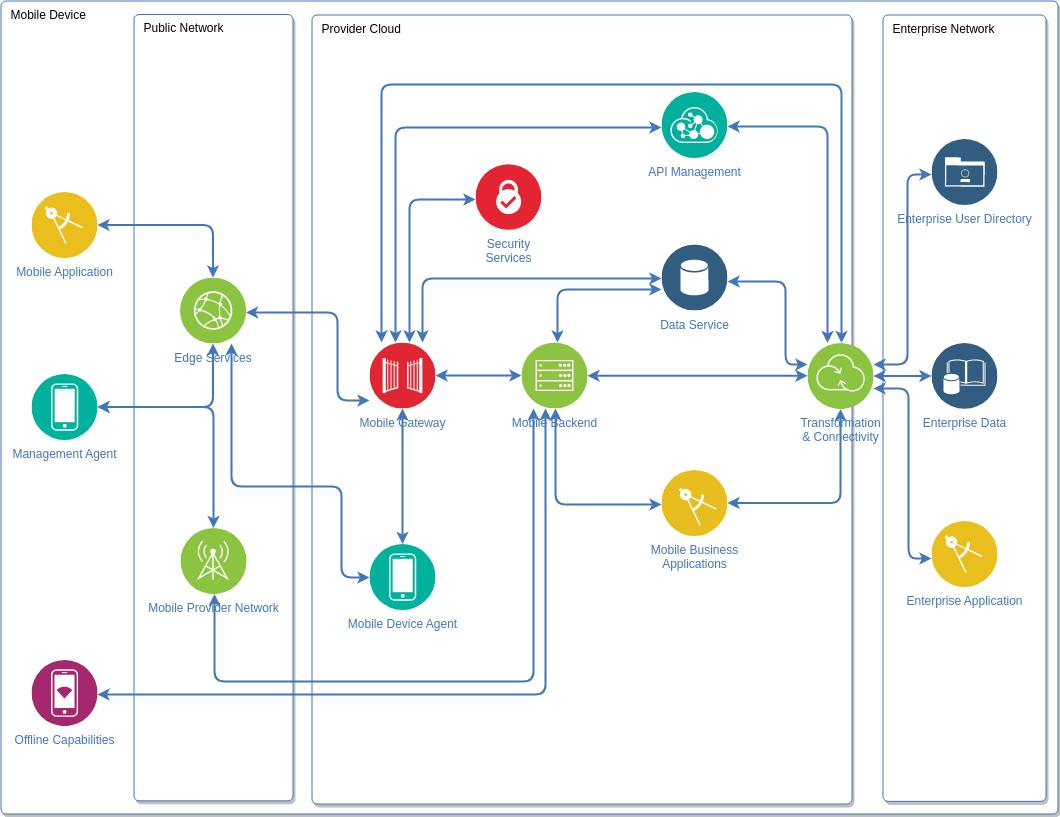API Gateway: (366, 343, 433, 404)
Backend: (663, 466, 726, 540), (514, 348, 588, 409), (806, 344, 870, 406), (37, 190, 93, 257), (943, 520, 994, 583), (668, 99, 720, 153)
Database: (932, 347, 996, 417), (657, 249, 732, 308)
Firewall: (491, 168, 523, 222)
Frontend: (28, 380, 94, 445), (38, 661, 99, 726), (181, 280, 244, 337), (380, 548, 424, 607)
Networking: (171, 532, 244, 593)
Storage: (940, 143, 998, 194)
